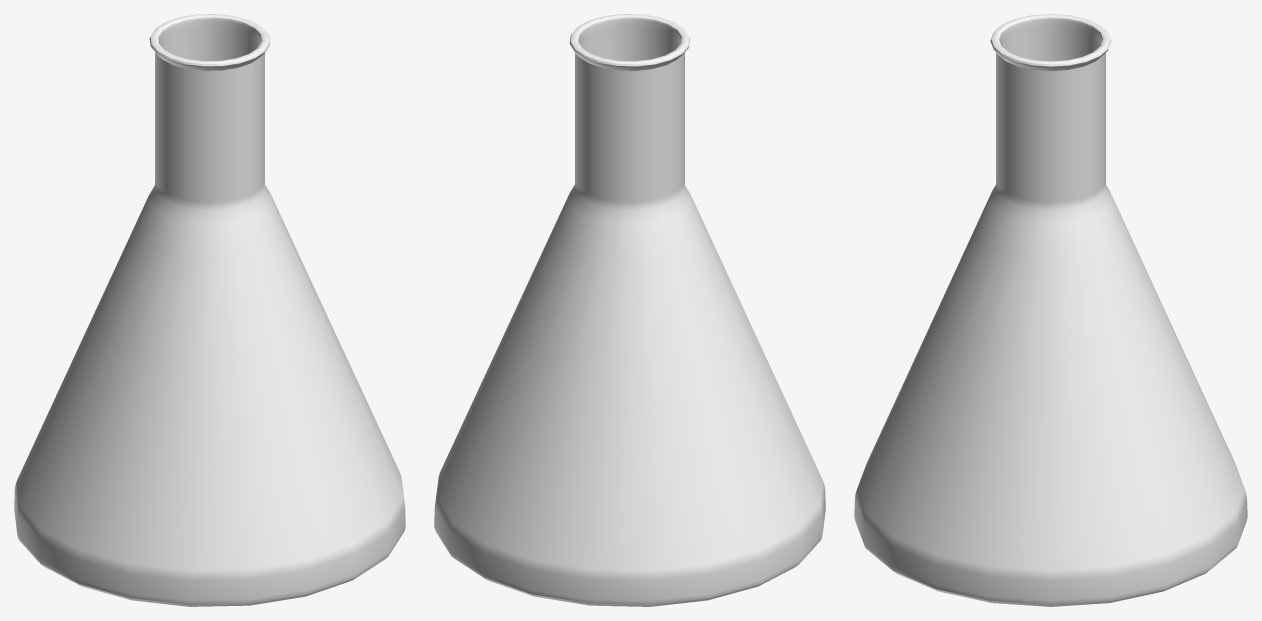
Rendered from Erlenmeyer_flask.fbx.
3 views of the same model, side by side, from view 1: azimuth 30°, elevation 25°; view 2: azimuth 150°, elevation 25°; view 3: azimuth 270°, elevation 25° (orthographic).
Visible parts, largest first — view 1: Erlenmeyer_flask1; view 2: Erlenmeyer_flask1; view 3: Erlenmeyer_flask1.
Boxes of the visible parts, <box> form: Erlenmeyer_flask1: <box>14,14,405,606</box>; Erlenmeyer_flask1: <box>434,14,825,606</box>; Erlenmeyer_flask1: <box>854,14,1247,606</box>.
Size of the model in its own units: 13.62 by 18.68 by 13.62.
